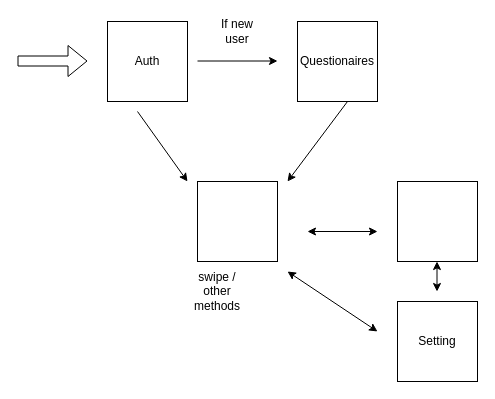
The diagram is 495 pixels wide and 399 high, and some of its shapes have lost their labels. Here are the shapes that lost their labels. From the top down, the centre of each, then its label:
the point at 237,221: Home
the point at 437,221: messages
